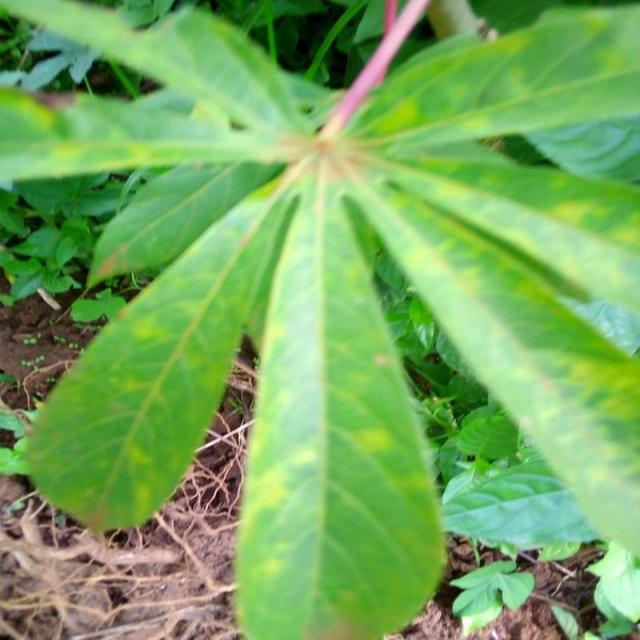cassava leaf: (9, 1, 638, 638)
